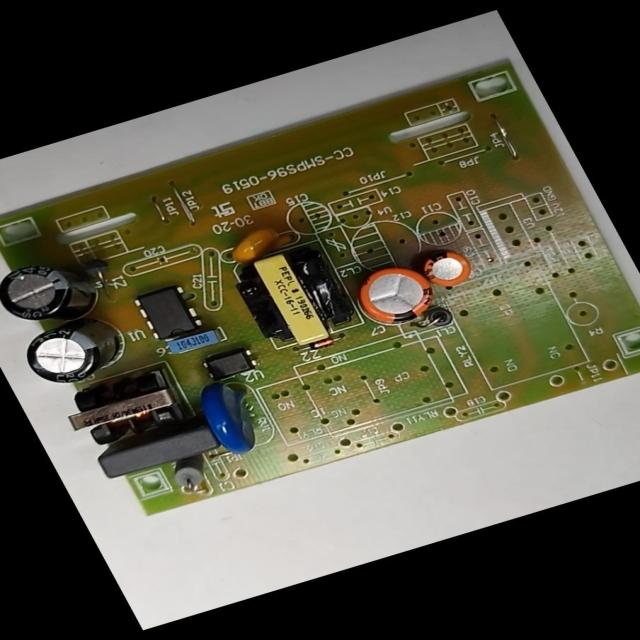Cap1: (342, 255, 447, 335)
Cap2: (412, 244, 482, 296)
Cap3: (8, 308, 140, 396)
Cap4: (0, 246, 112, 332)
MOSFET: (122, 276, 214, 352)
Mov: (184, 373, 278, 465)
Resistor: (160, 450, 220, 496)
Transformer: (213, 234, 373, 362), (44, 357, 201, 458)
